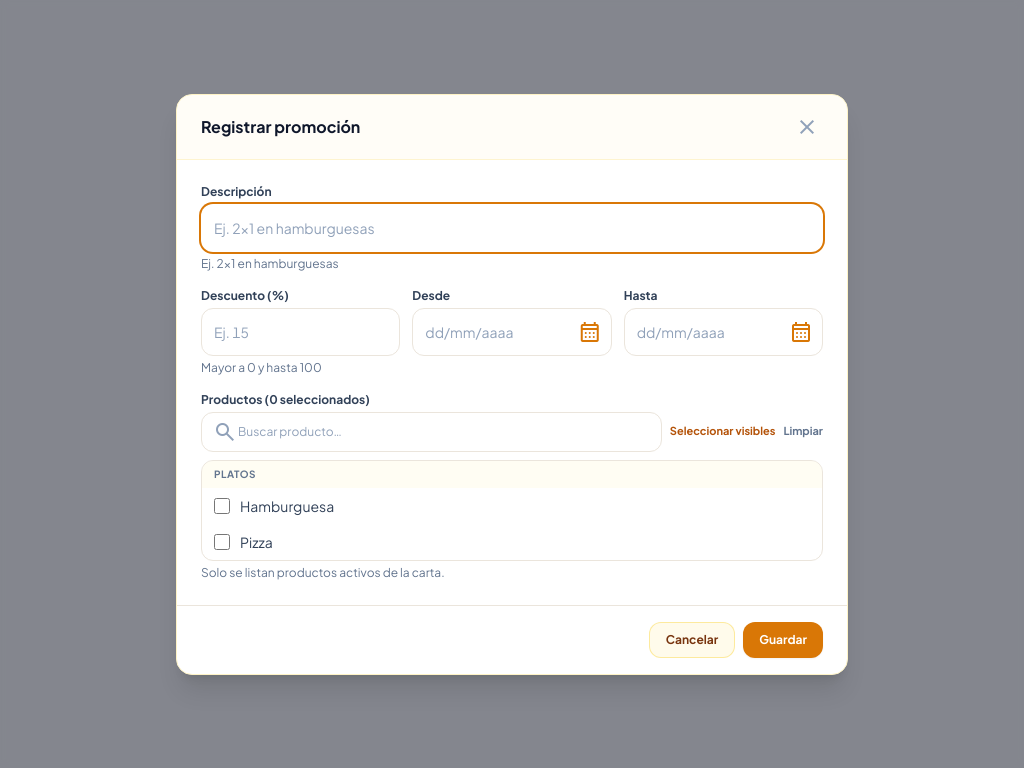
Test: PromocionForm › muestra el error del backend (CA2)
Expected: the checkbox labelled "Hamburguesa" is shown, [214, 498, 230, 514]
Type "Promo" into the field labelled "Descripción" at (512, 228), box [201, 204, 823, 252]
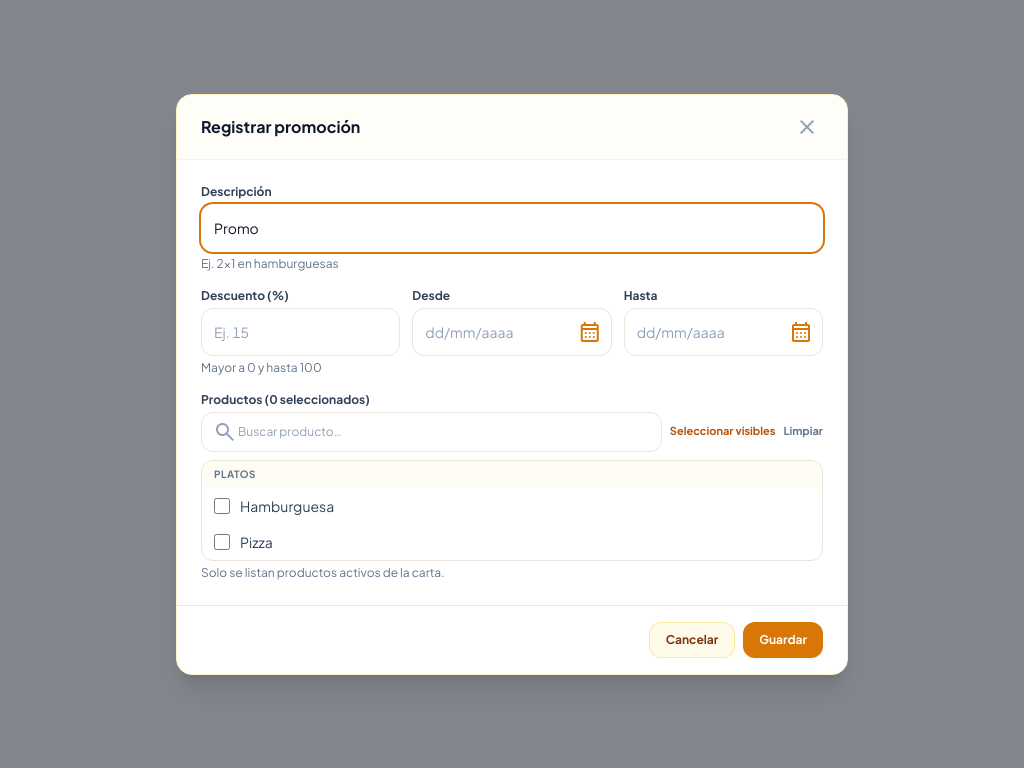
Type "10" into the number field labelled "Descuento (%)" at (301, 332), box [201, 308, 400, 356]
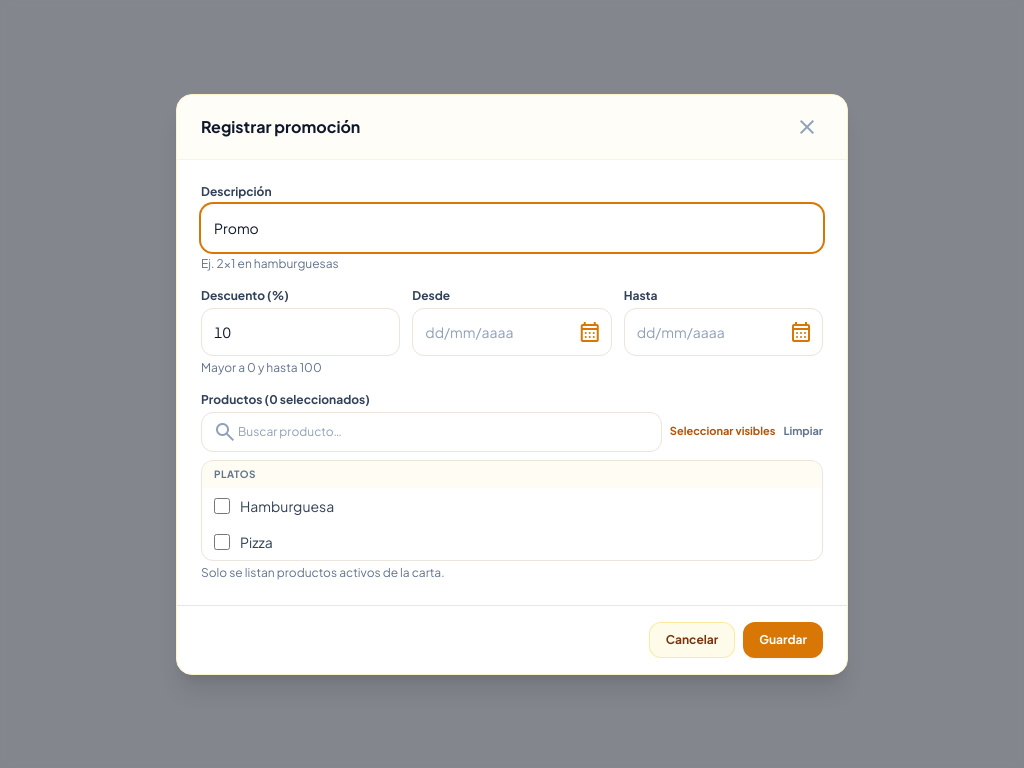
Type "01/12/2099" into the field labelled "Desde" at (512, 332), box [412, 308, 612, 356]
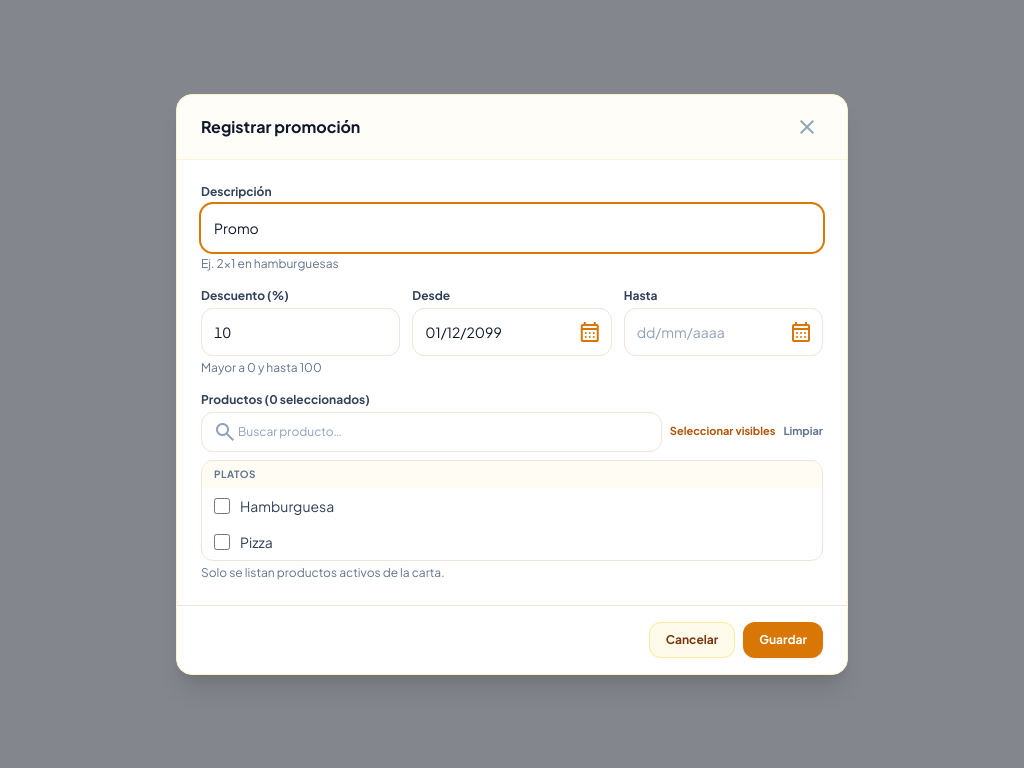
Type "10/12/2099" into the field labelled "Hasta" at (723, 332), box [624, 308, 823, 356]
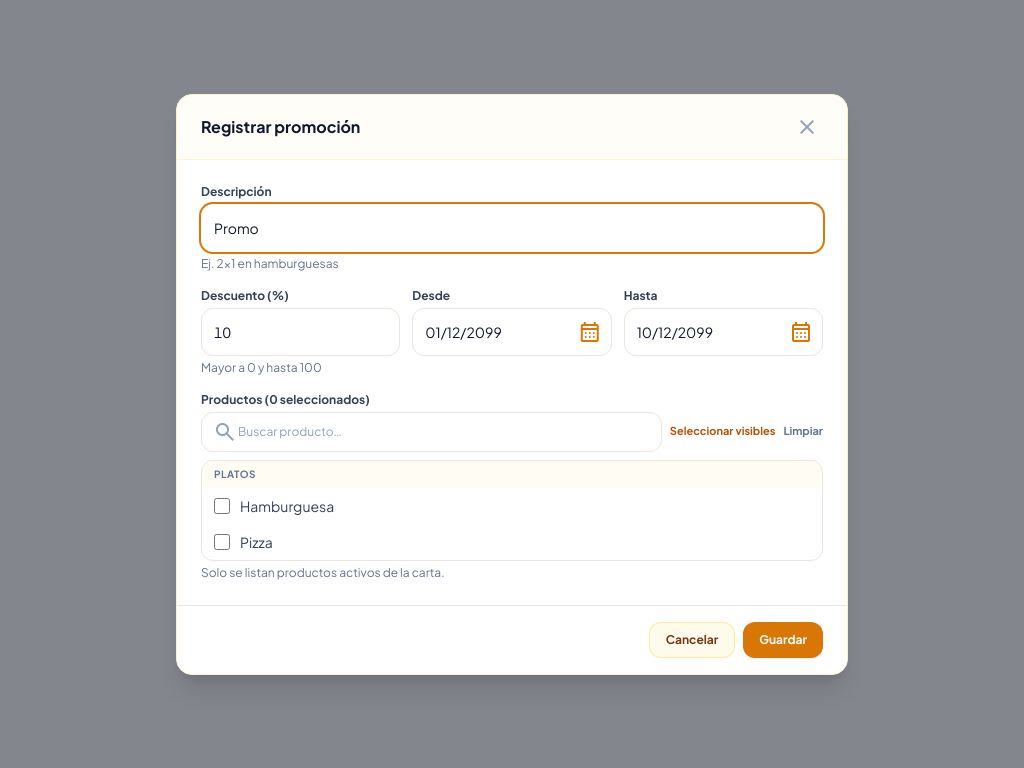
Click the checkbox labelled "Hamburguesa" at (222, 506), box [214, 498, 230, 514]
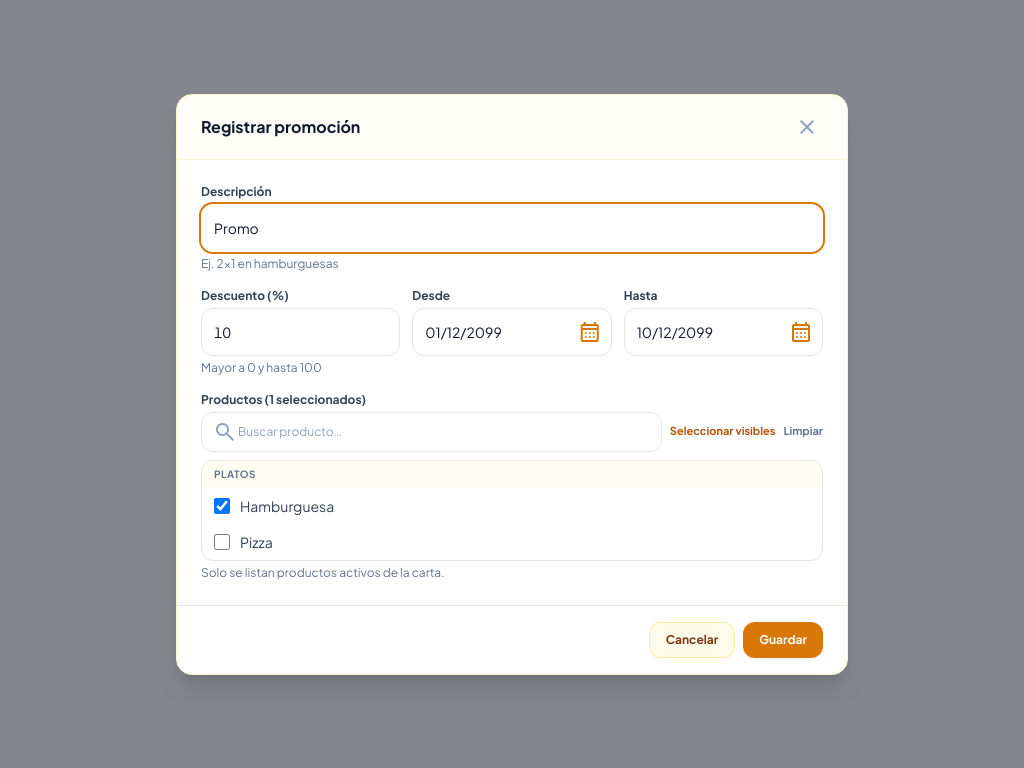
Click the button "Guardar" at (783, 640), box [743, 622, 823, 658]
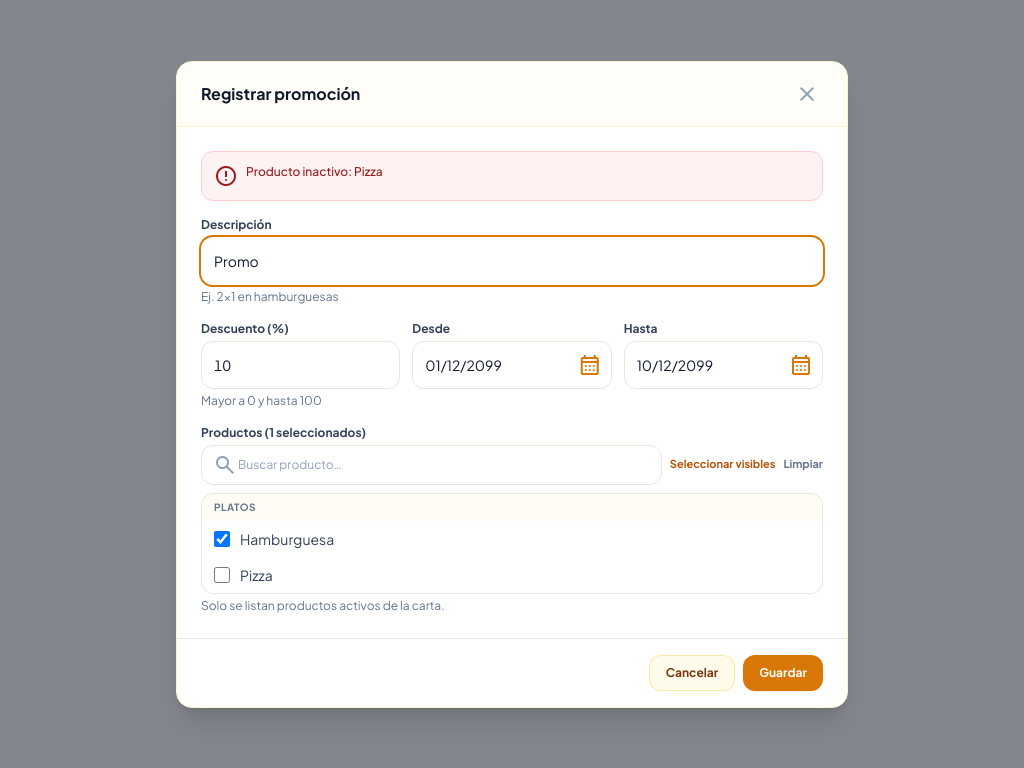
Expected: the text "Producto inactivo: Pizza" is shown, [246, 164, 383, 178]
